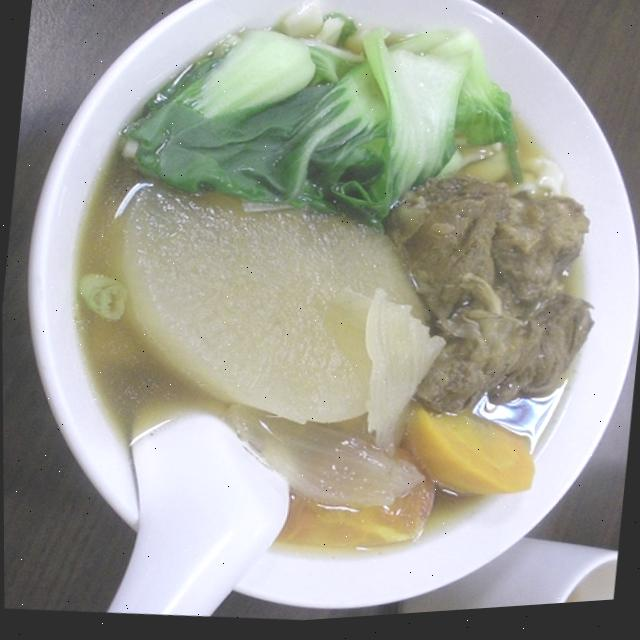面条主食: (11, 0, 639, 622)
